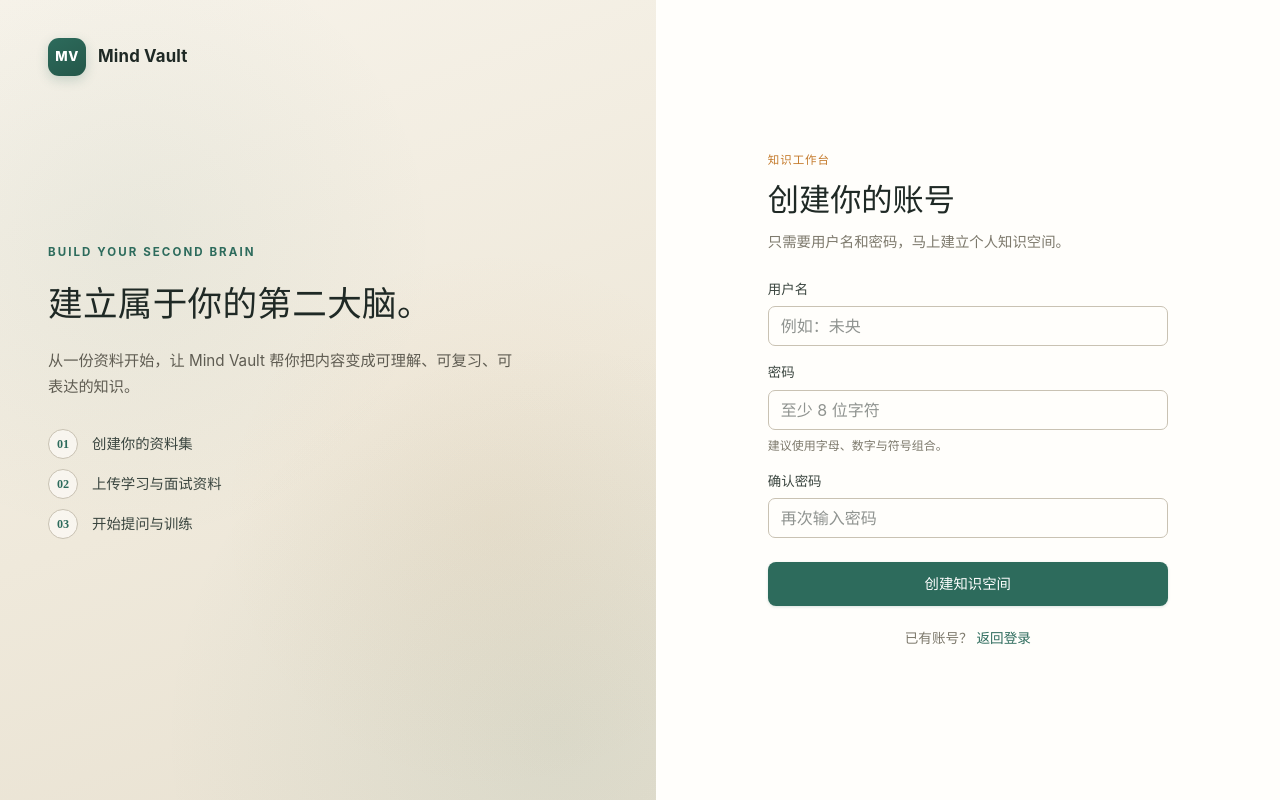
Test case: RegisterPage › shows the server message when the username is taken
Step 1. Type "tester" into the field labelled "用户名" → (968, 326), box 768,306 -> 1168,346
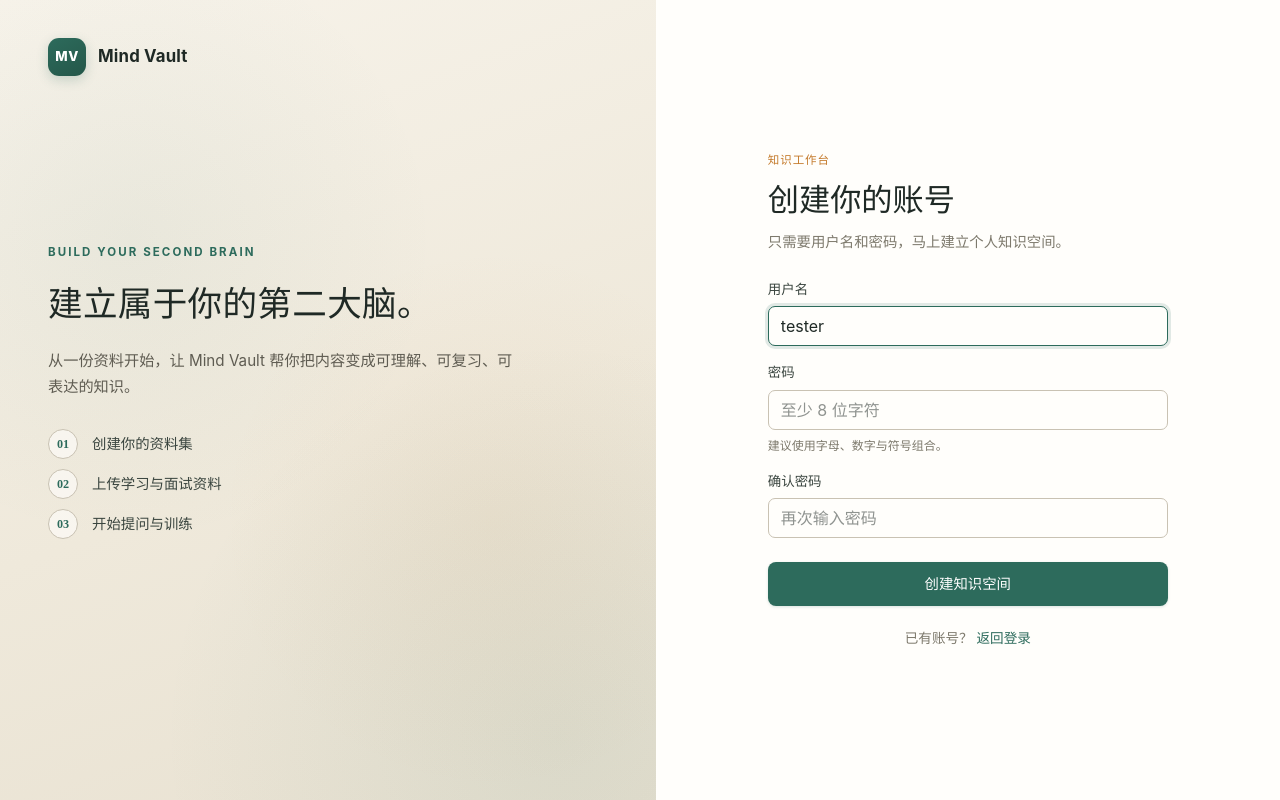
Step 2. Type "12345678" into the password field labelled "密码" → (968, 410), box 768,390 -> 1168,430
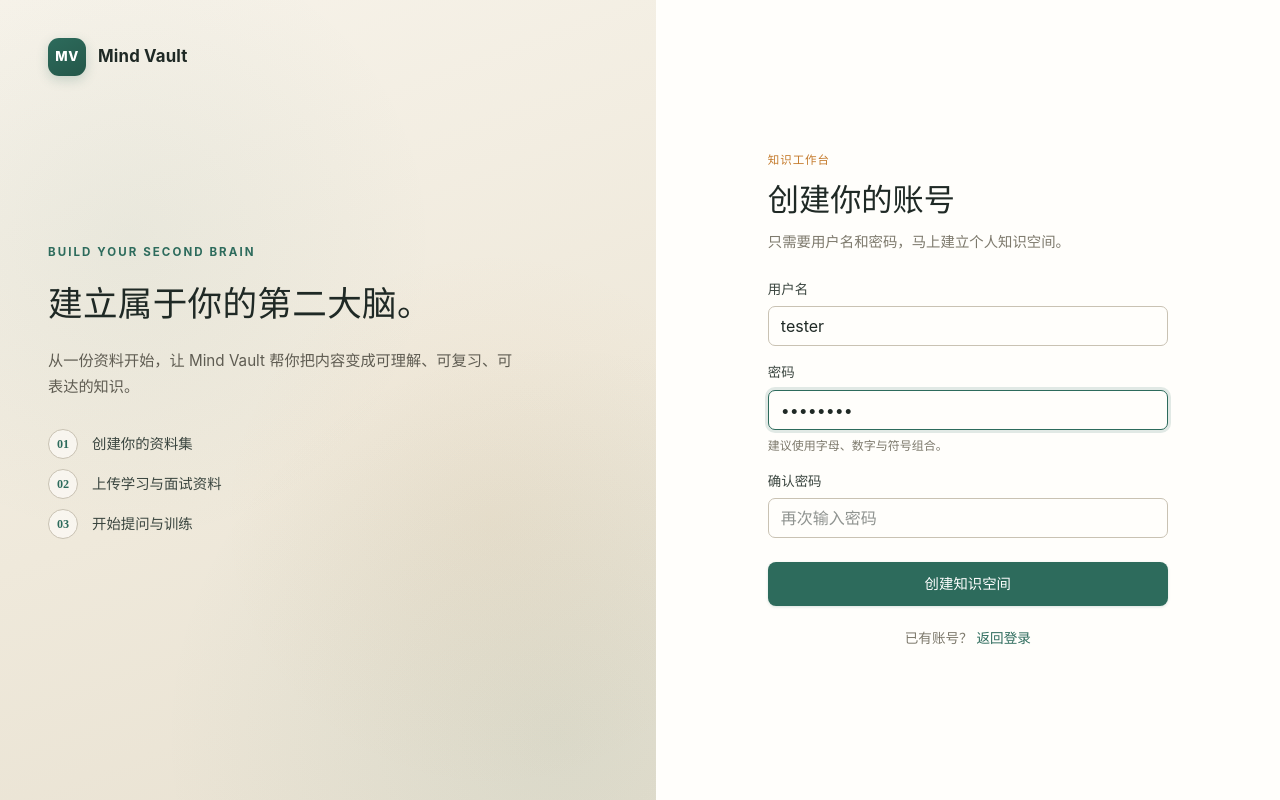
Step 3. Type "12345678" into the password field labelled "确认密码" → (968, 518), box 768,498 -> 1168,538
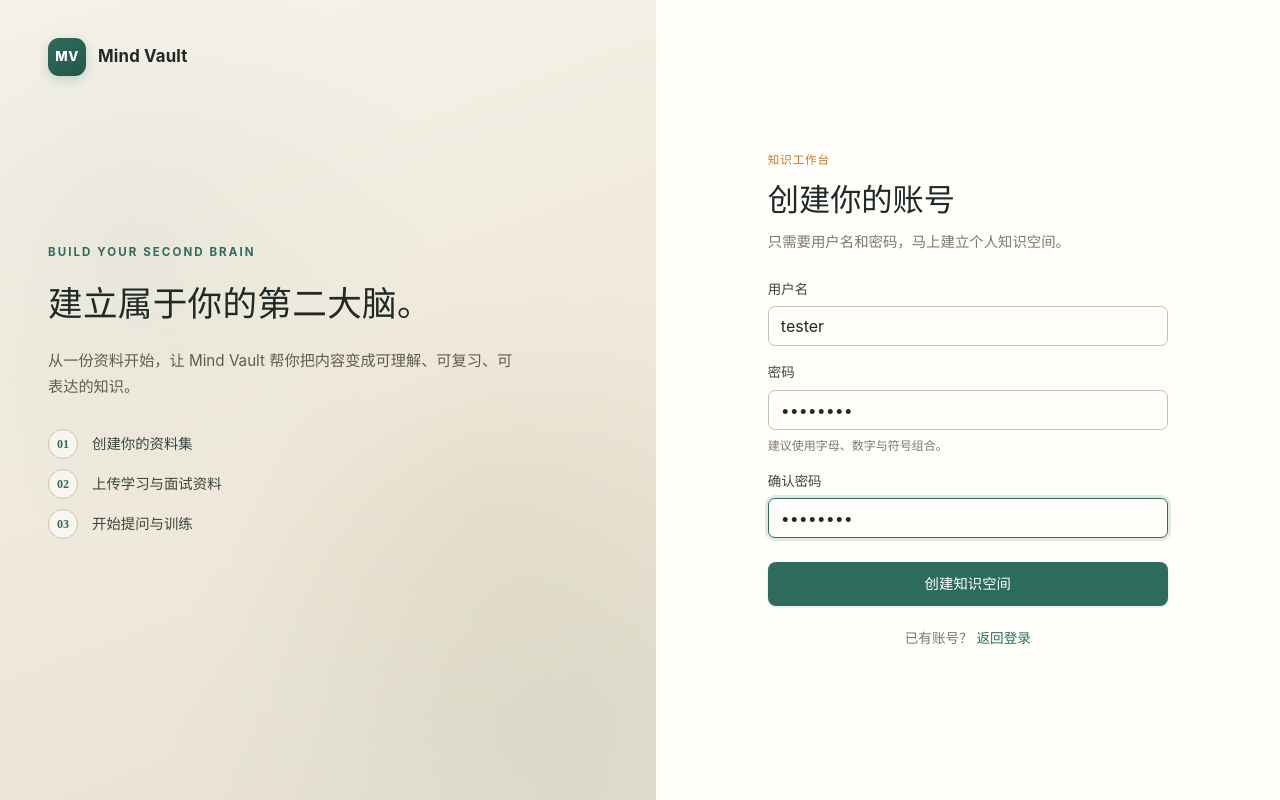
Step 4. Click the button "创建知识空间" → (968, 584), box 768,562 -> 1168,606
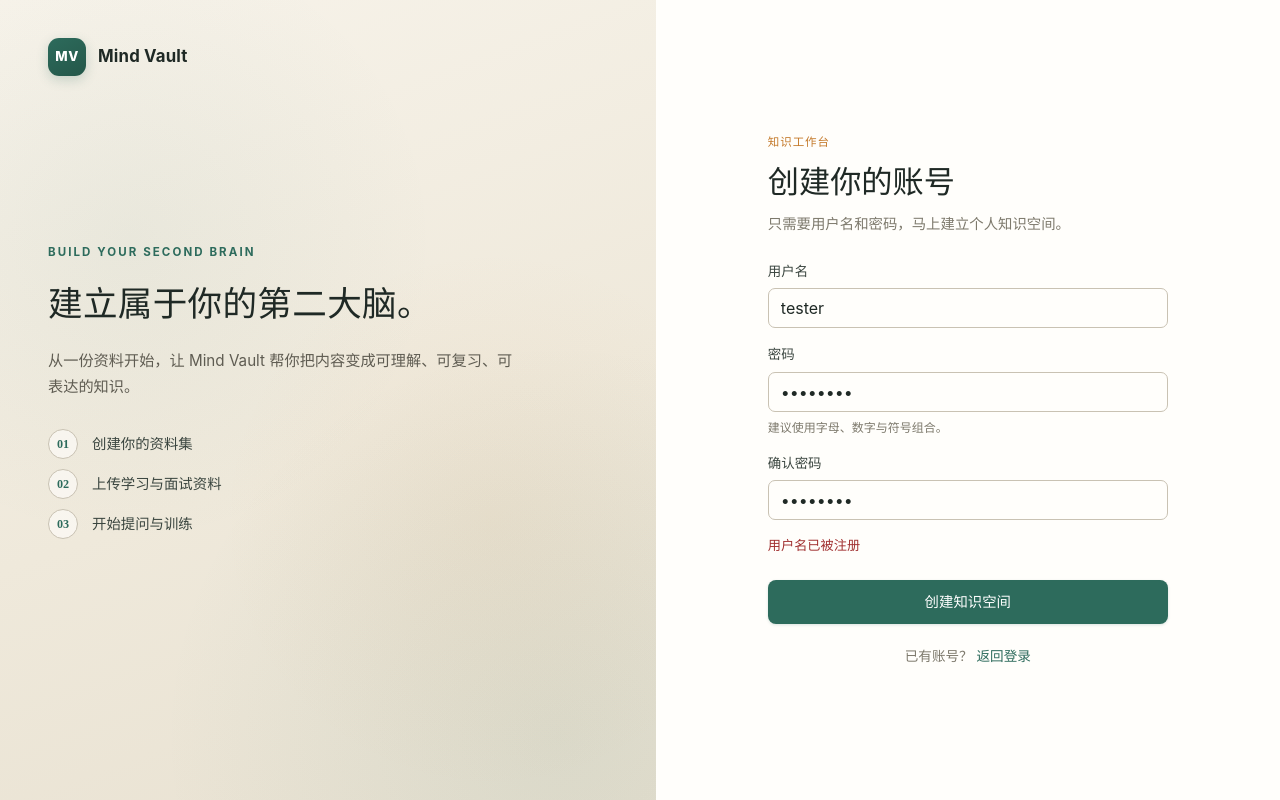
Expected: the button "创建知识空间" is enabled, 768,580 -> 1168,624
Expected: the message reads "用户名已被注册", 768,537 -> 860,553
